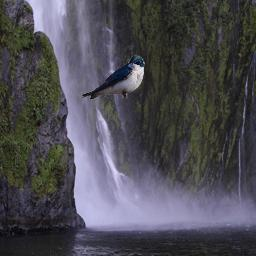Swallow: (81, 55, 145, 99)
